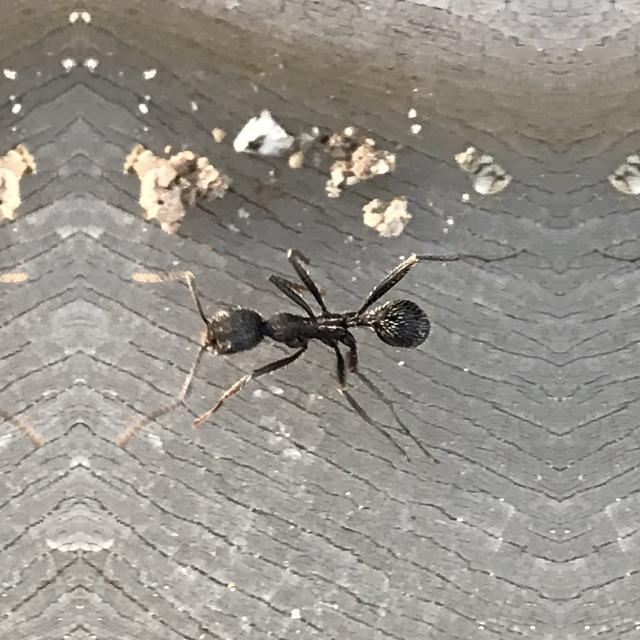Apheanogaster: (142, 194, 456, 440)
